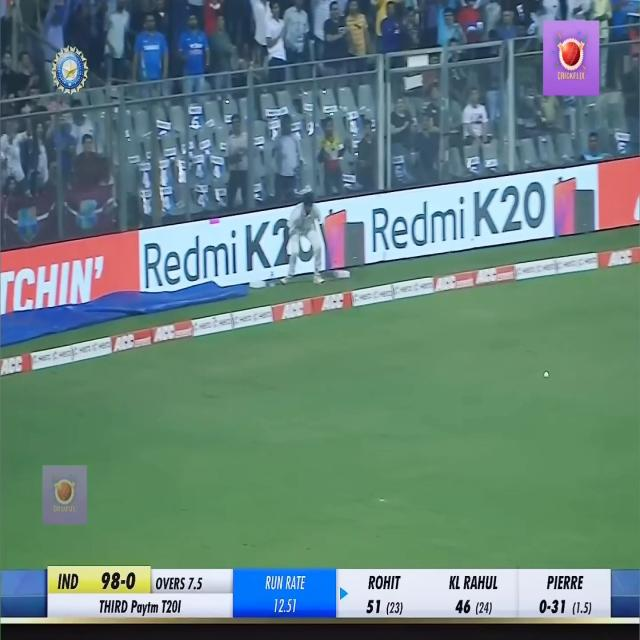fully_visible: (129, 596, 159, 620)
